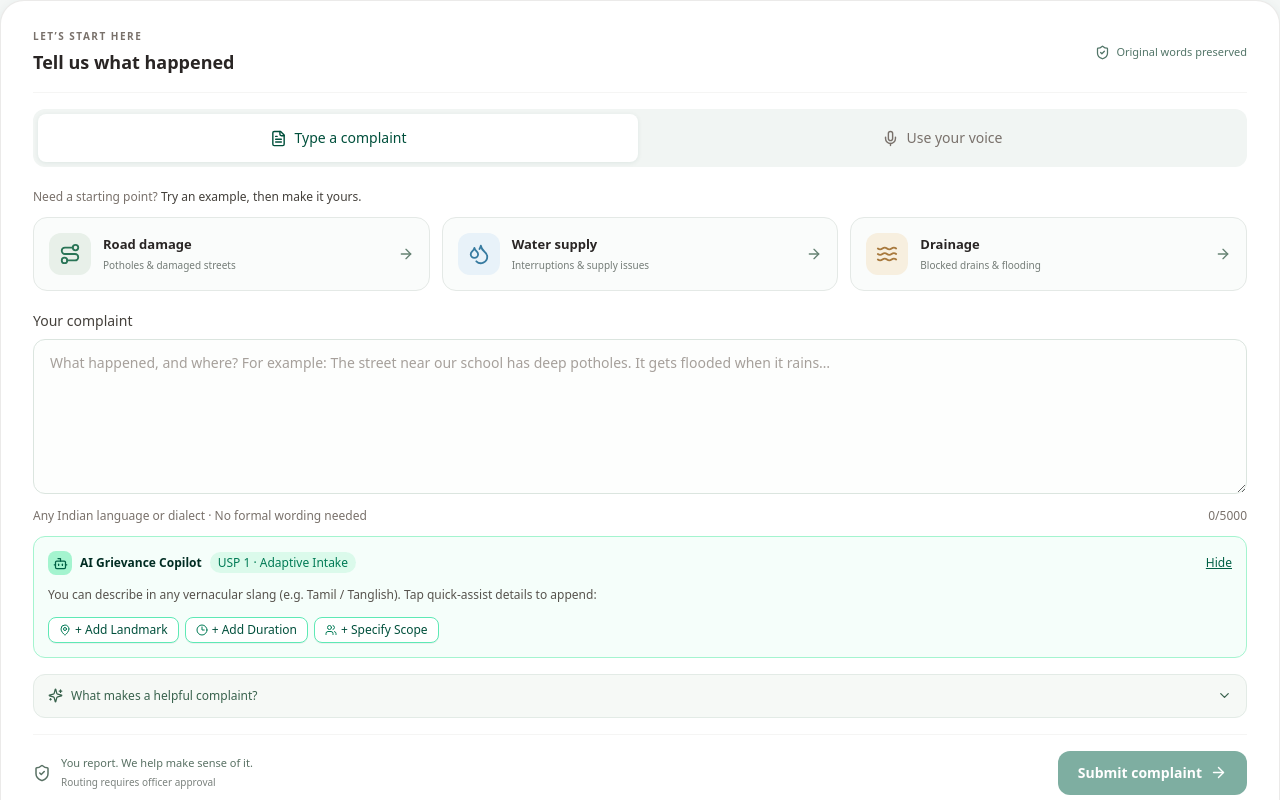
Test: sample chips fill the editor without submitting or inventing a result
This screenshot has width=1280, height=800.
Click the button "Road damage Potholes & damaged streets".
click(70, 254)  # box [33,217,430,291]
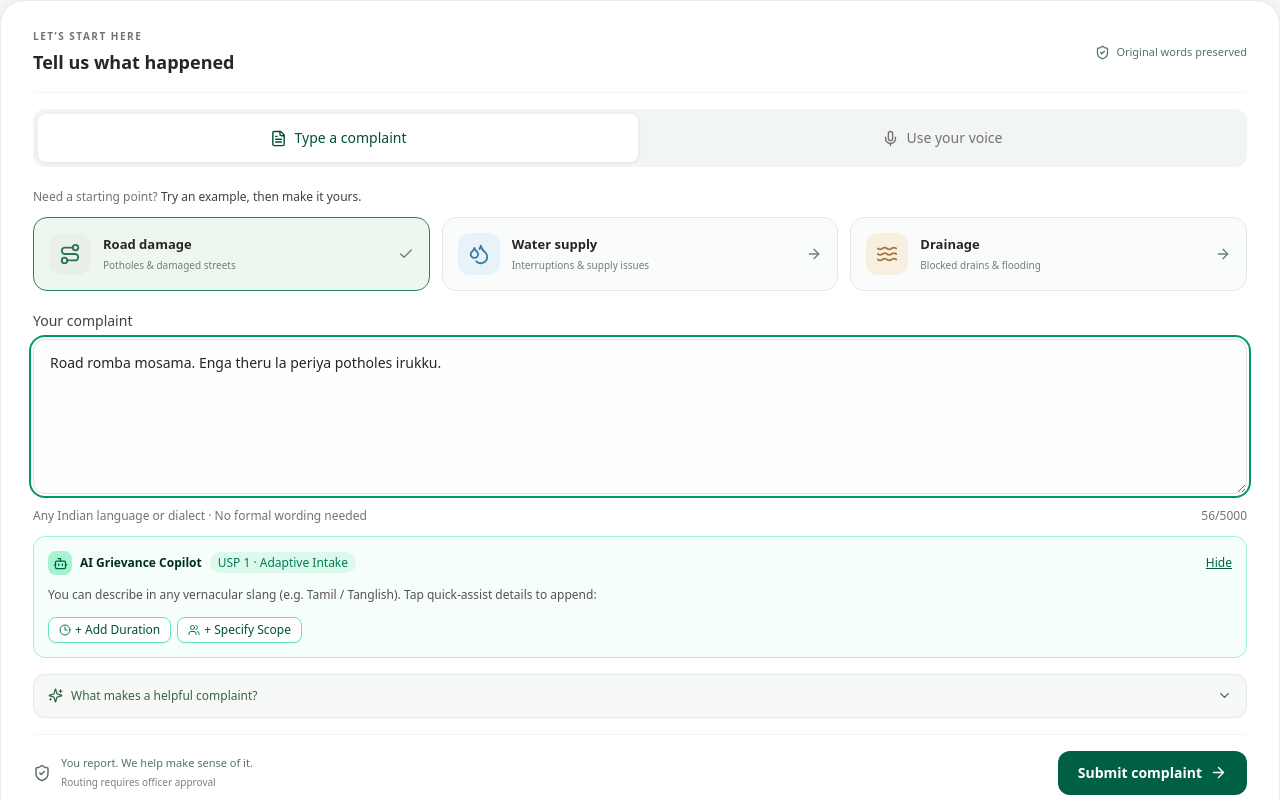
Expected: the text box labelled "Your complaint" holds "Road romba mosama. Enga theru la periya potholes irukku.", [33,339,1247,494]
Click the button "Water supply".
click(479, 254)  # box [442,217,838,291]
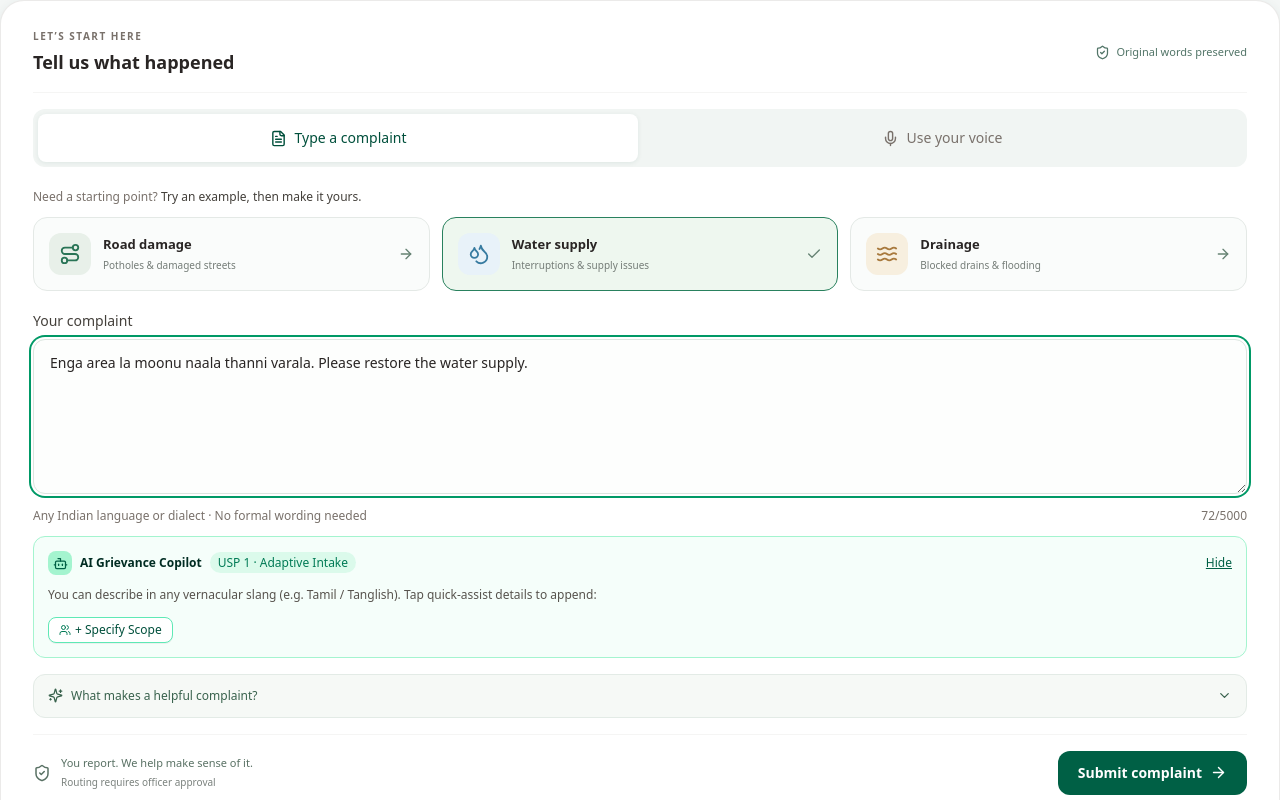
Expected: the text box labelled "Your complaint" holds "Enga area la moonu naala thanni varala. Please restore the water supply.", [33,339,1247,494]
